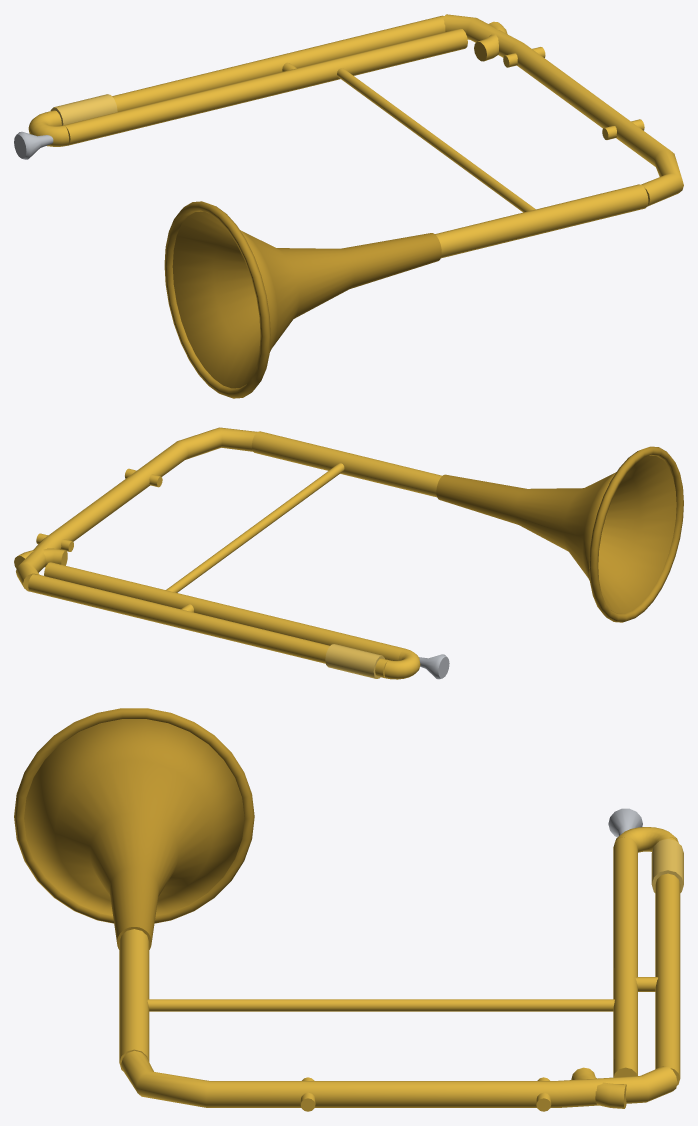
The model's file is trombone.fbx.
The picture shows the model from 3 angles, top to bottom: view 1: azimuth 30°, elevation 25°; view 2: azimuth 150°, elevation 25°; view 3: azimuth 270°, elevation 25°; orthographic projection. The views are drawn at different scales.
Parts seen in each view (by area): view 1: Trombone; view 2: Trombone; view 3: Trombone.
Boxes of the visible parts, x1,y1,x2,y2 form: Trombone: [14, 14, 683, 398]; Trombone: [14, 427, 683, 679]; Trombone: [14, 708, 683, 1111].
Size of the model in its own units: 2.77 by 0.9647 by 2.7.
